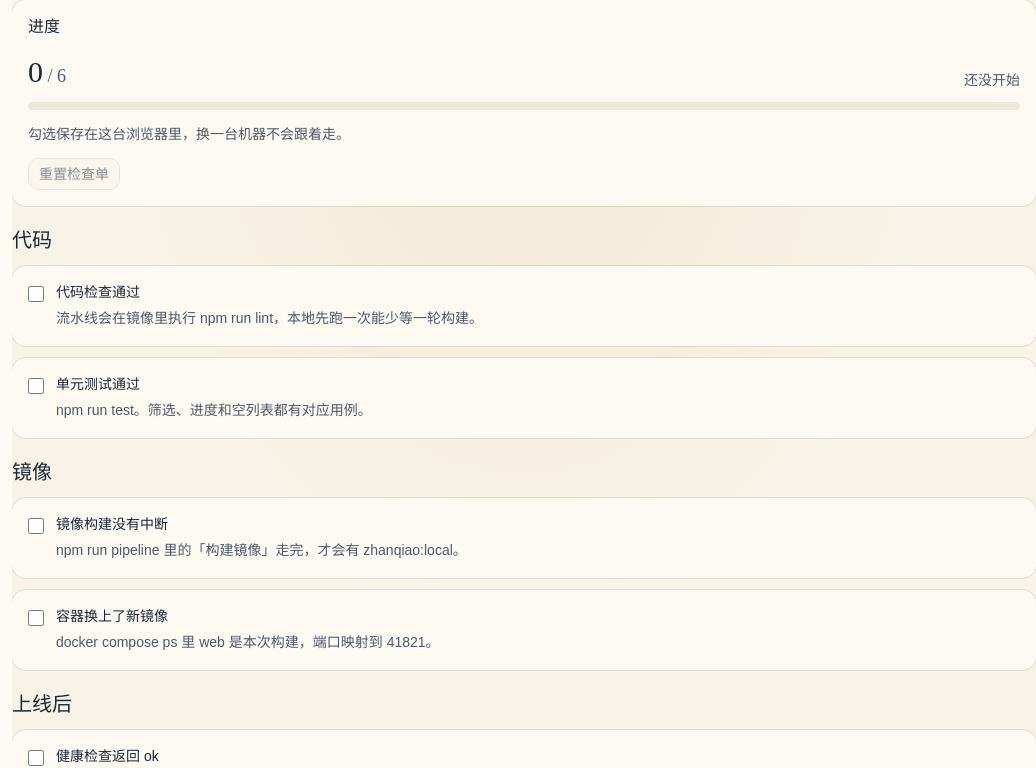
Test case: ChecklistBoard › starts empty, then keeps a checked item
This screenshot has width=1036, height=768.
Expected: the text "还没开始" is shown, top-left (964, 70), bottom-right (1020, 90)
Click the checkbox labelled "代码检查通过 流水线会在镜像里执行 npm run lint，本地先跑一次能少等一轮构建。" at (36, 294), box top-left (28, 286), bottom-right (44, 302)
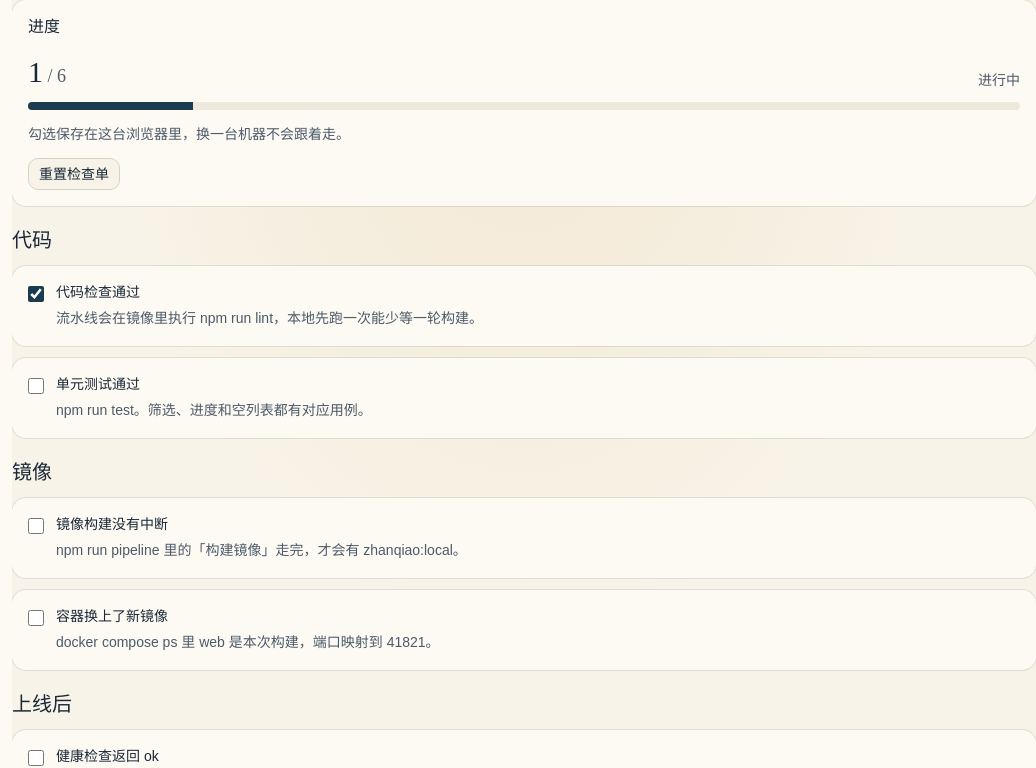
Expected: the text "进行中" is shown, top-left (978, 70), bottom-right (1020, 90)
